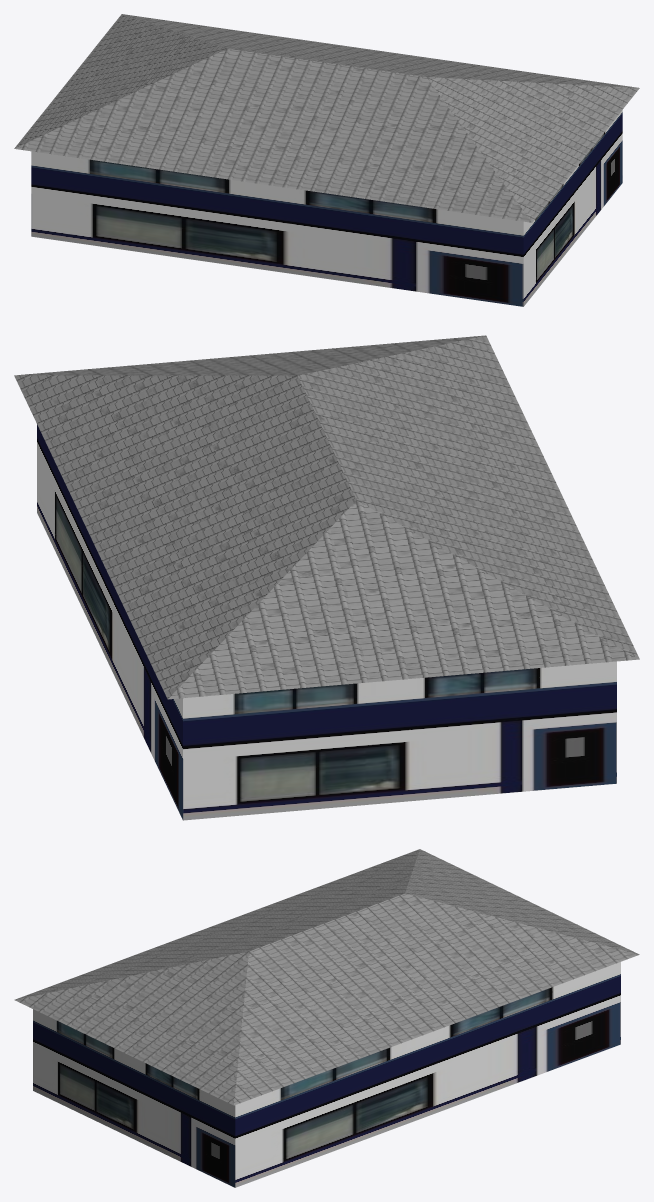
3 renders of one model, top to bottom at view 1: azimuth 30°, elevation 25°; view 2: azimuth 150°, elevation 25°; view 3: azimuth 270°, elevation 25°, orthographic. The views are drawn at different scales.
Visible parts, largest first — view 1: CityEngineMaterial_4_m, CityEngineMaterial_2_m; view 2: CityEngineMaterial_4_m, CityEngineMaterial_2_m; view 3: CityEngineMaterial_4_m, CityEngineMaterial_2_m.
Boxes of the visible parts, x1=… form: CityEngineMaterial_4_m: x1=14, y1=14, x2=639, y2=222; CityEngineMaterial_2_m: x1=31, y1=110, x2=622, y2=306; CityEngineMaterial_4_m: x1=14, y1=335, x2=639, y2=699; CityEngineMaterial_2_m: x1=37, y1=424, x2=616, y2=820; CityEngineMaterial_4_m: x1=14, y1=849, x2=639, y2=1105; CityEngineMaterial_2_m: x1=33, y1=962, x2=620, y2=1187.
Bounding box in the file's own units: 42.38 × 11.19 × 43.69.
